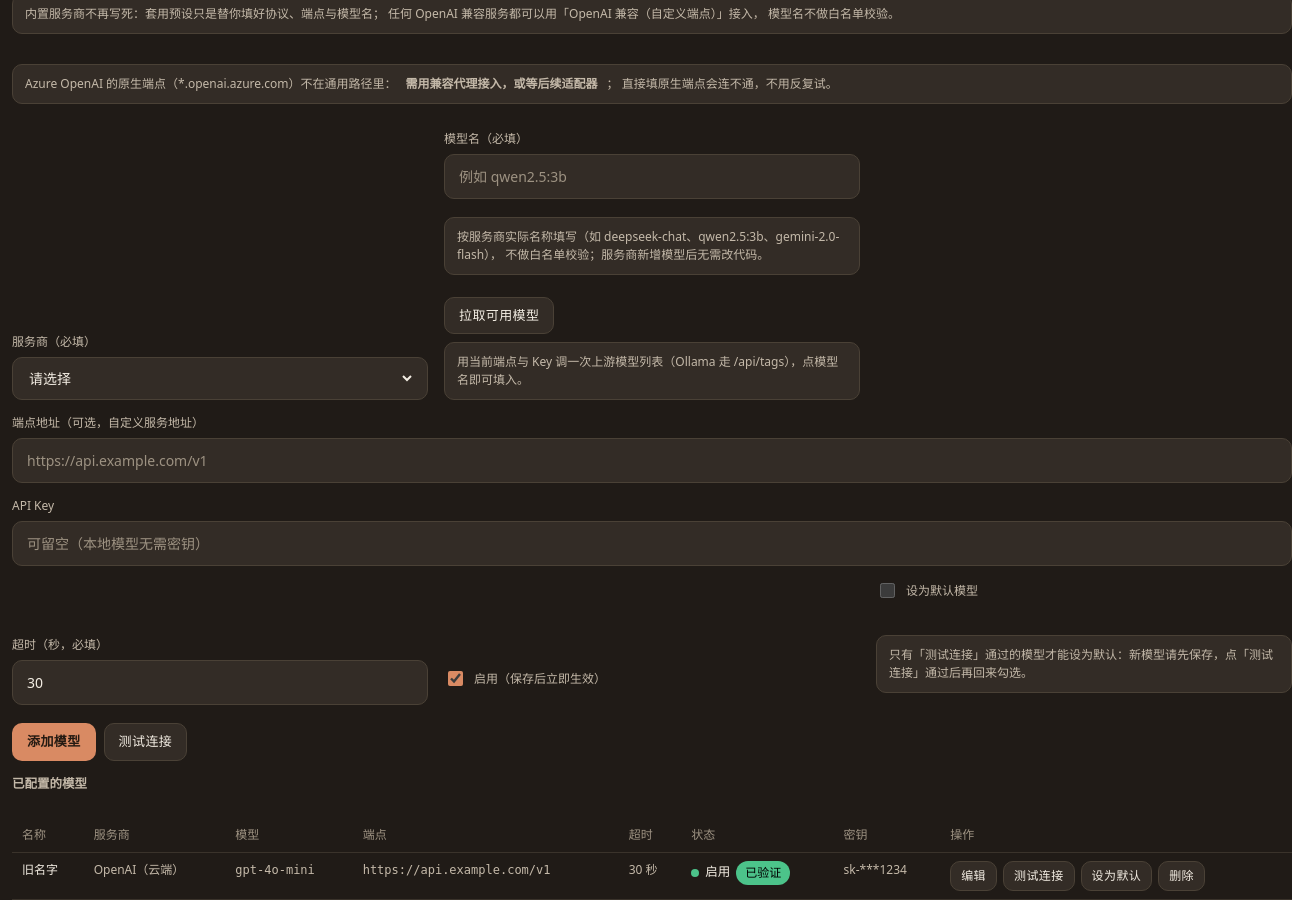
乐观并发（P2 前端） › 删除与设为默认的 409 只走普通错误，不弹版本冲突
(page scrolled)
Click the button with aria-label "删除模型「旧名字」": click(1182, 876) left=1158, top=860, right=1205, bottom=890
(page scrolled)
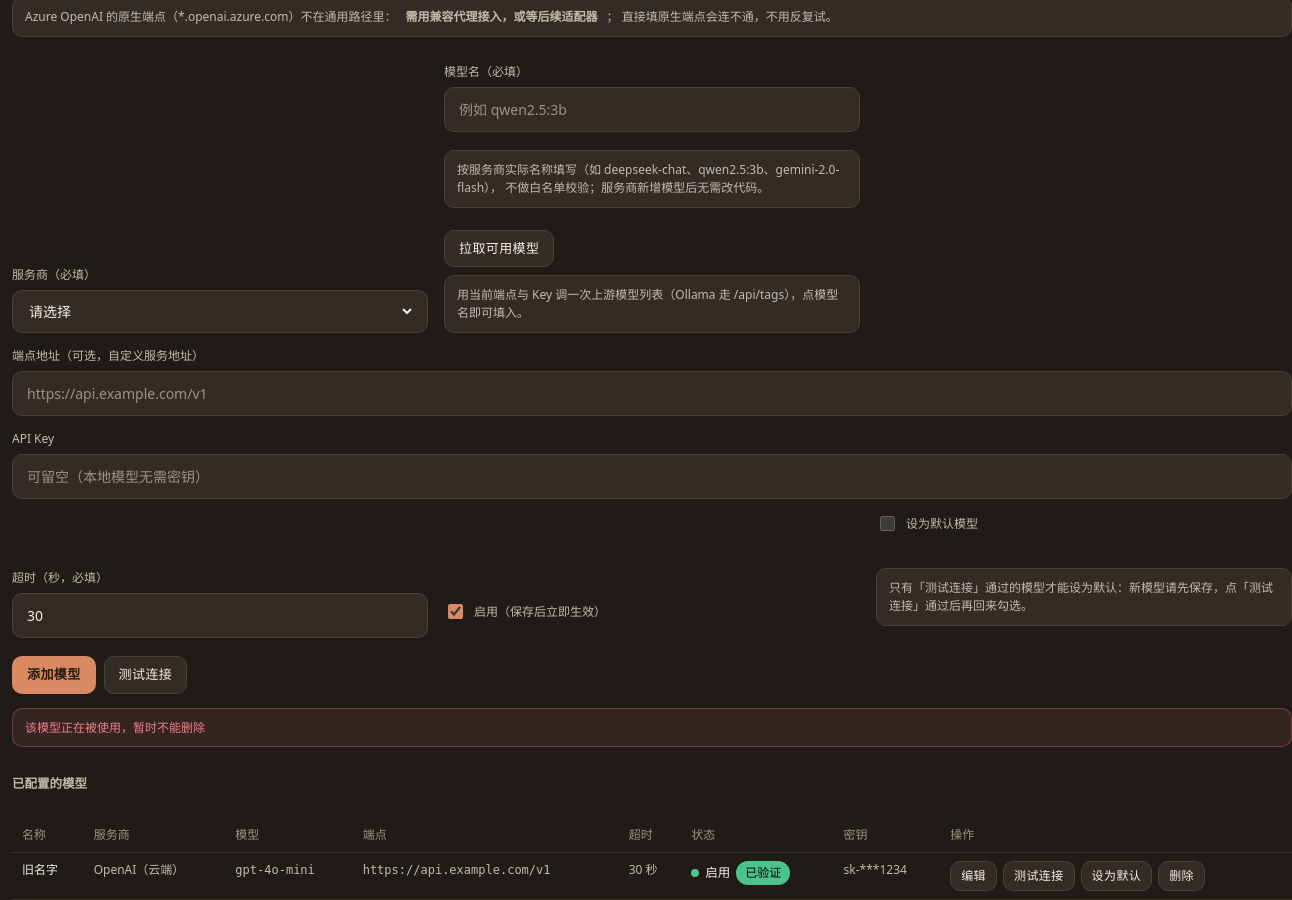
Now the text "该模型正在被使用，暂时不能删除" is shown, box left=25, top=719, right=205, bottom=736
Click the button with aria-label "把模型「旧名字」设为默认": click(1116, 876) left=1081, top=861, right=1152, bottom=891
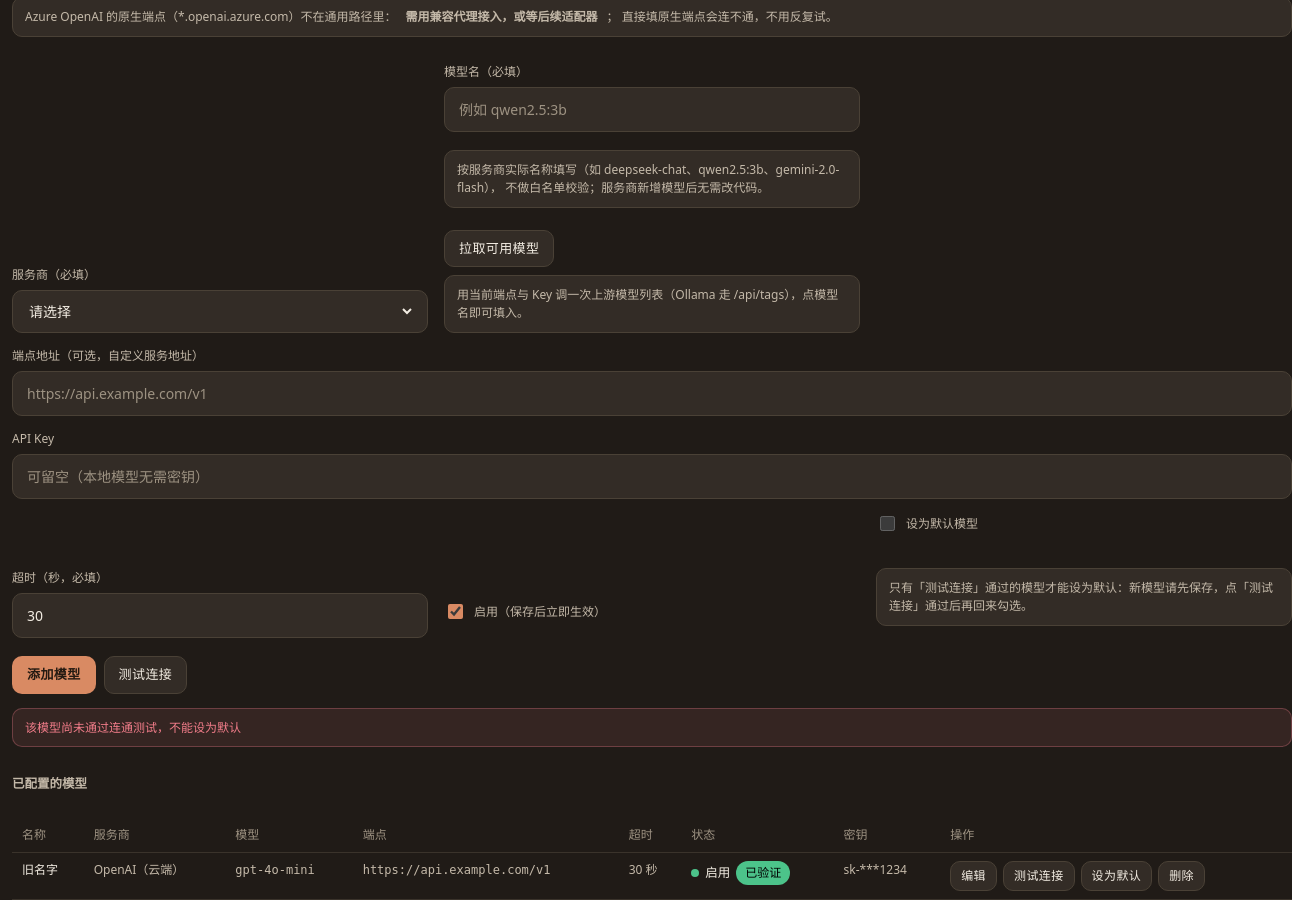
Now the text "该模型尚未通过连通测试，不能设为默认" is shown, box left=25, top=719, right=241, bottom=736
